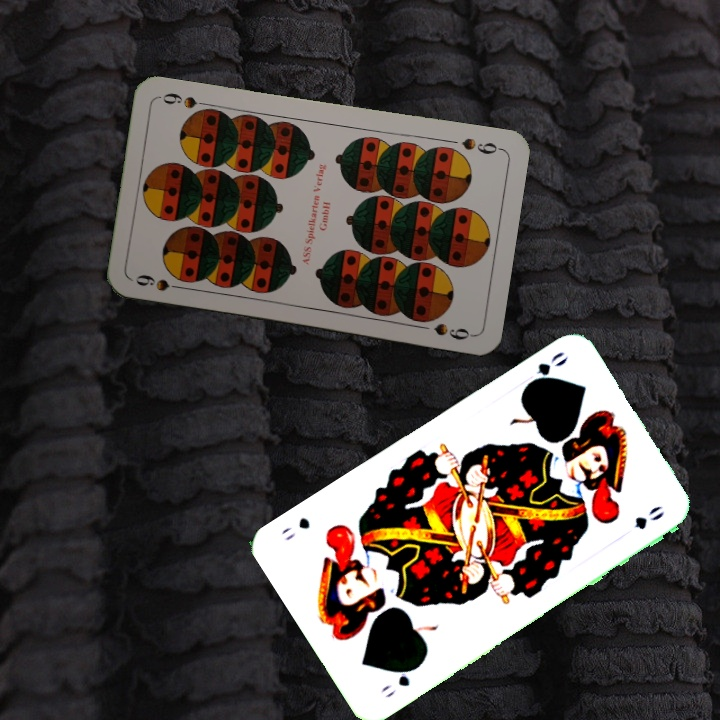GO: (520, 347, 571, 392), (377, 661, 423, 700)
S9: (131, 270, 189, 294), (457, 134, 504, 157)
